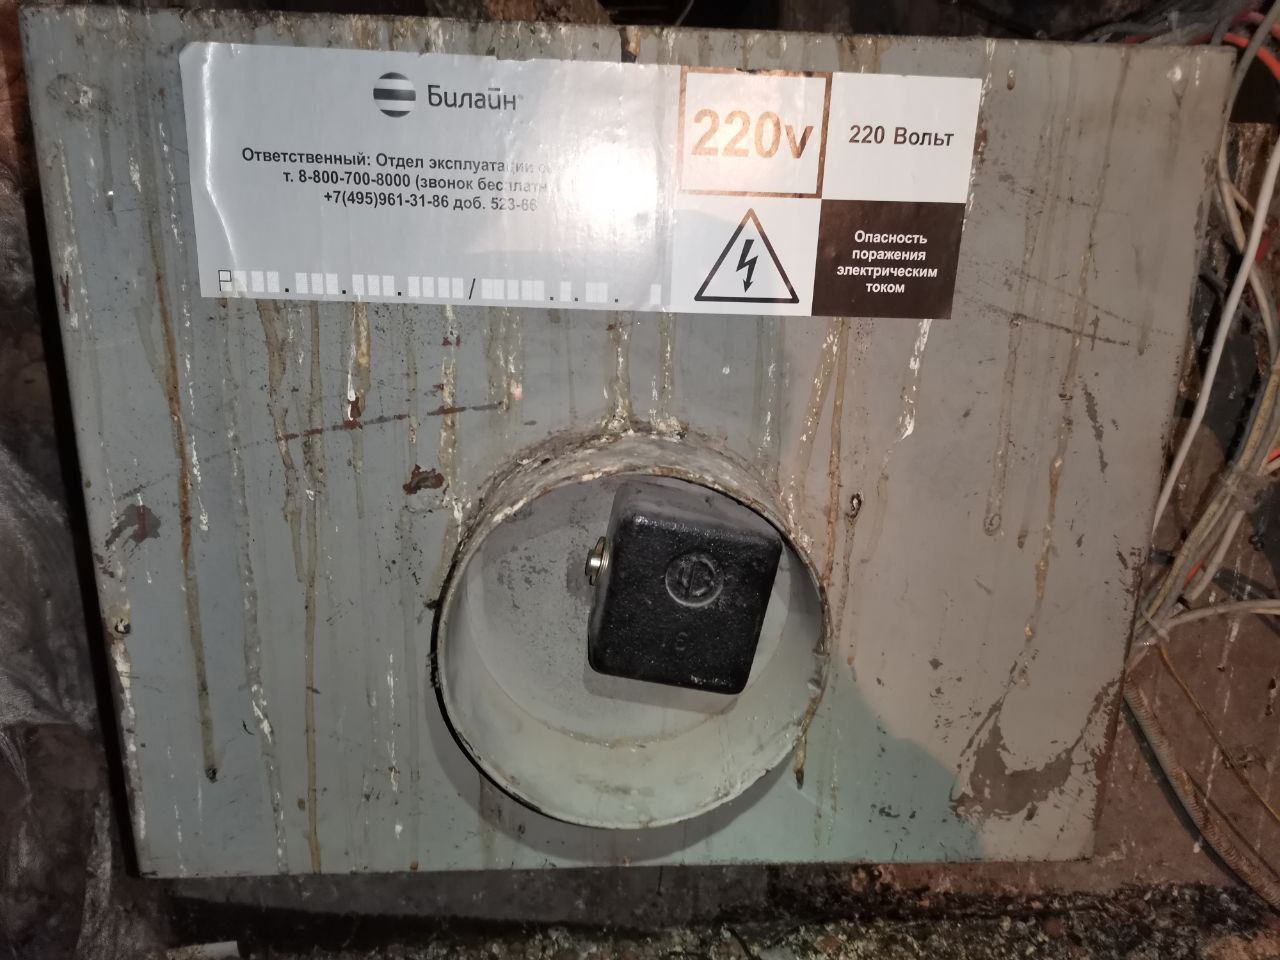shta-3: (18, 4, 1240, 880)
